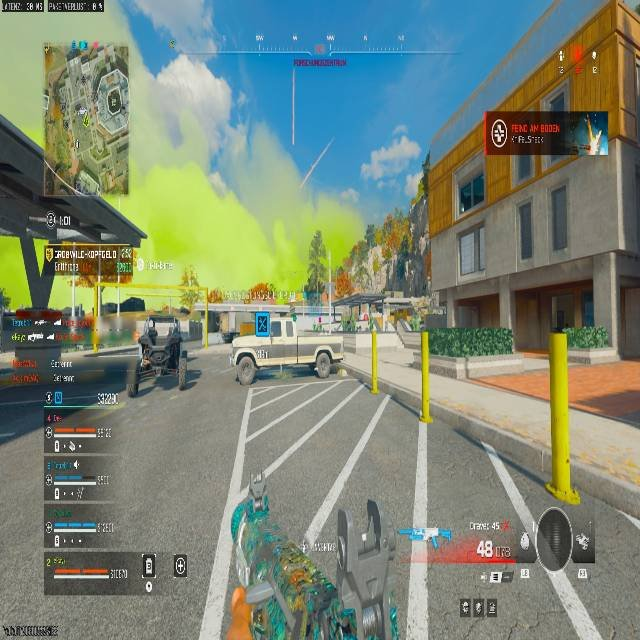player: (138, 324, 157, 366)
